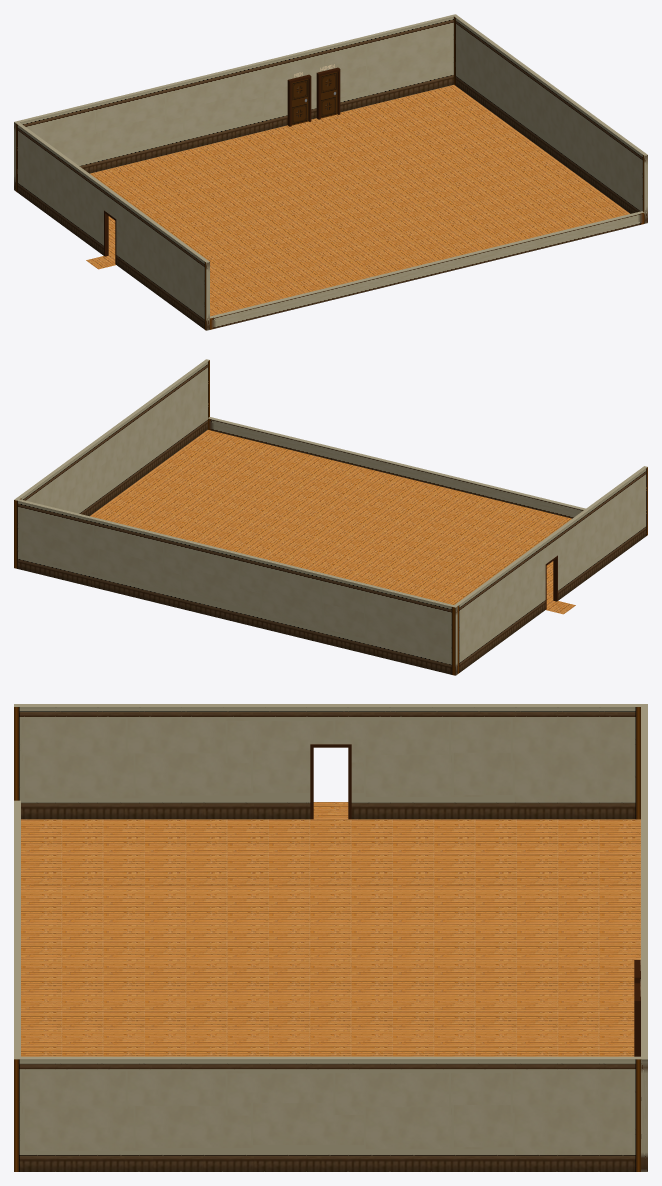
Rendered from PiPi.fbx.
The picture shows the model from 3 angles, top to bottom: view 1: azimuth 30°, elevation 25°; view 2: azimuth 150°, elevation 25°; view 3: azimuth 270°, elevation 25°; orthographic projection. The views are drawn at different scales.
Visible parts, largest first — view 1: Plane, Cube_1_6, Cube_2_4, Cube, Cube_3, Cube_1_3, Cube_1, Cube_1_4; view 2: Plane, Cube_1_6, Cube, Cube_2_4, Cube_3; view 3: Plane, Cube_2_4, Cube, Cube_1_6, Cube_3, Cube_1_5.
Part boxes in pixels (x1,y1,x2,y2): Plane: (90,85,630,316); Cube_1_6: (14,14,457,191); Cube_2_4: (454,15,647,223); Cube: (16,122,209,330); Cube_3: (210,211,644,329); Cube_1_3: (291,78,308,125); Cube_1: (320,71,337,118); Cube_1_4: (287,74,311,126); Plane: (90,430,571,605); Cube_1_6: (14,498,457,675); Cube: (454,466,647,673); Cube_2_4: (16,359,209,516); Cube_3: (208,417,585,518); Plane: (21,819,640,1056); Cube_2_4: (14,1056,640,1171); Cube: (14,704,640,819); Cube_1_6: (641,704,647,1171); Cube_3: (14,800,20,1056); Cube_1_5: (310,744,351,819).
Bounding box in the file's own units: 6350 × 902 × 4600.
8 materials, 5 textured.
